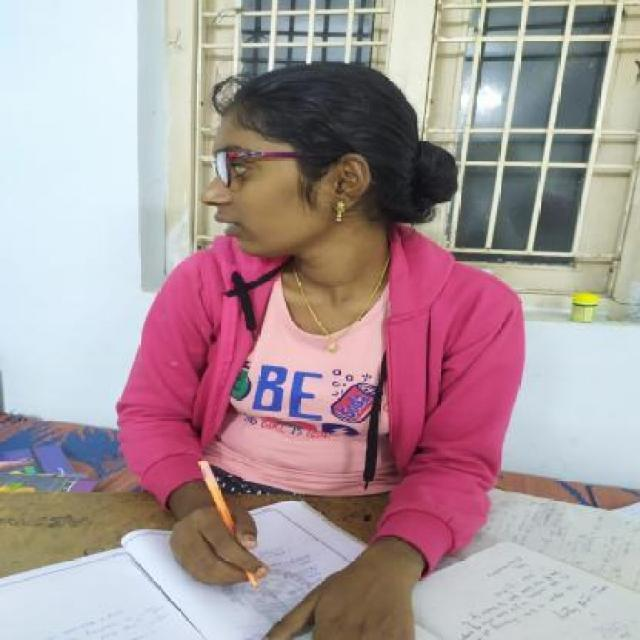cheating: (0, 45, 540, 640)
